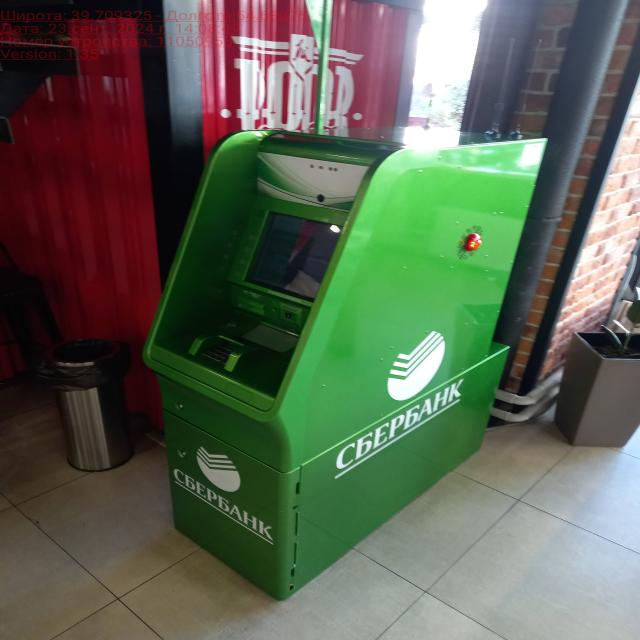bank: (148, 125, 549, 598)
